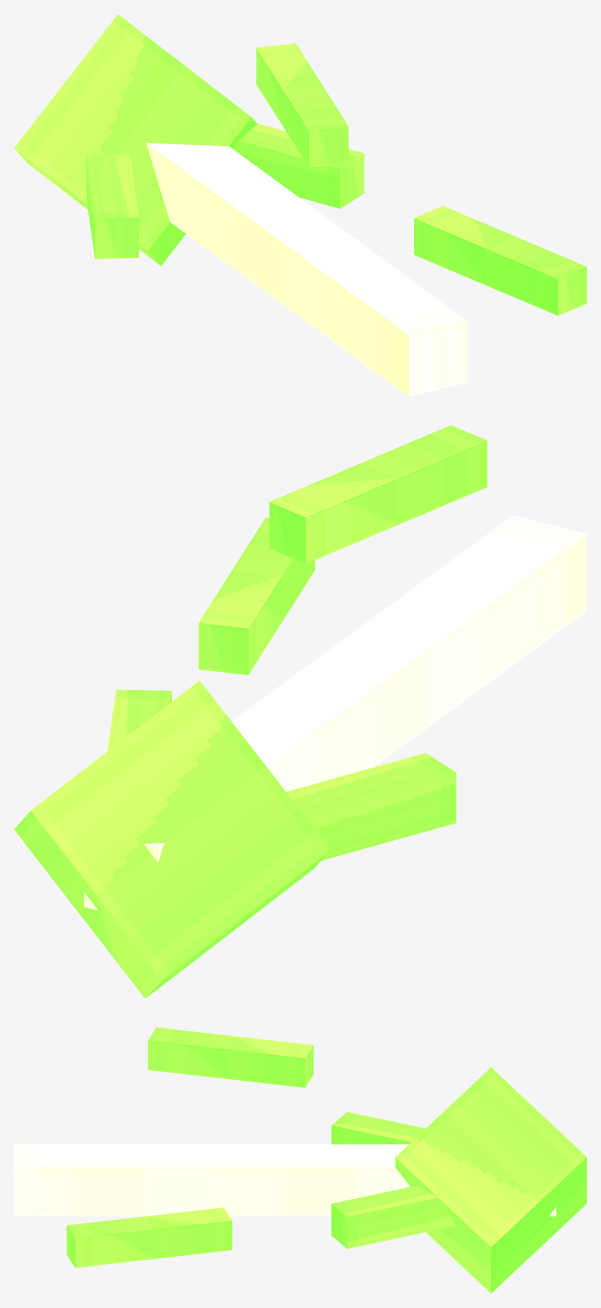
File: projectile_poison_poison.gltf
The picture shows the model from 3 angles, top to bottom: view 1: azimuth 30°, elevation 25°; view 2: azimuth 150°, elevation 25°; view 3: azimuth 270°, elevation 25°; orthographic projection. The views are drawn at different scales.
Visible parts, largest first — view 1: core_mesh; view 2: core_mesh; view 3: core_mesh.
Part boxes in pixels (x1=…): core_mesh: x1=14, y1=14, x2=586, y2=396; core_mesh: x1=14, y1=425, x2=586, y2=998; core_mesh: x1=14, y1=1027, x2=586, y2=1293.
Size of the model in its own units: 0.3418 by 0.3084 by 0.6605.
1 material, 1 textured.
